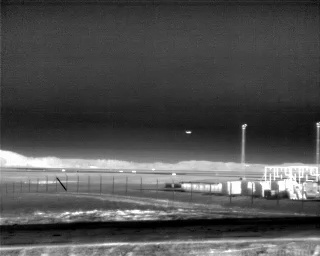AIRPLANE: (184, 128, 193, 136)
